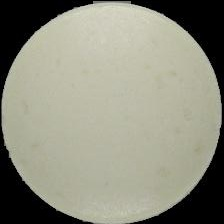10544-052: (0, 0, 224, 224)
